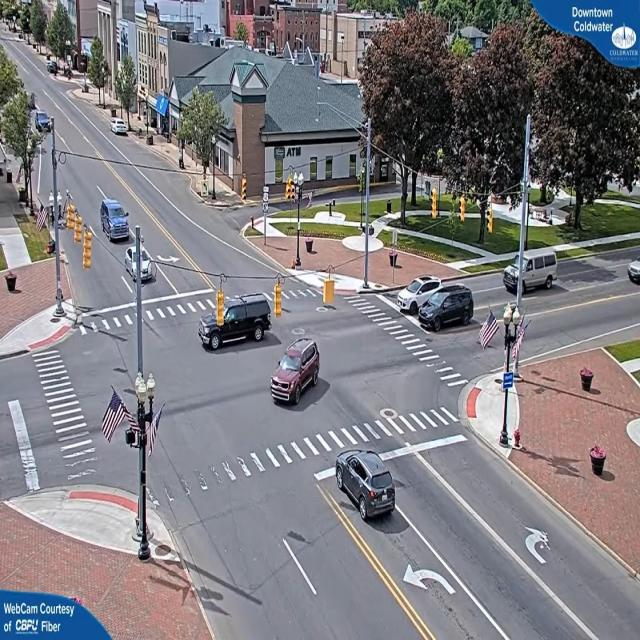car: (334, 452, 398, 522), (202, 292, 275, 348), (406, 279, 475, 331), (270, 337, 321, 407), (504, 248, 560, 293), (400, 271, 443, 309), (101, 201, 132, 242), (120, 248, 154, 280), (112, 120, 129, 136), (628, 261, 638, 286)
